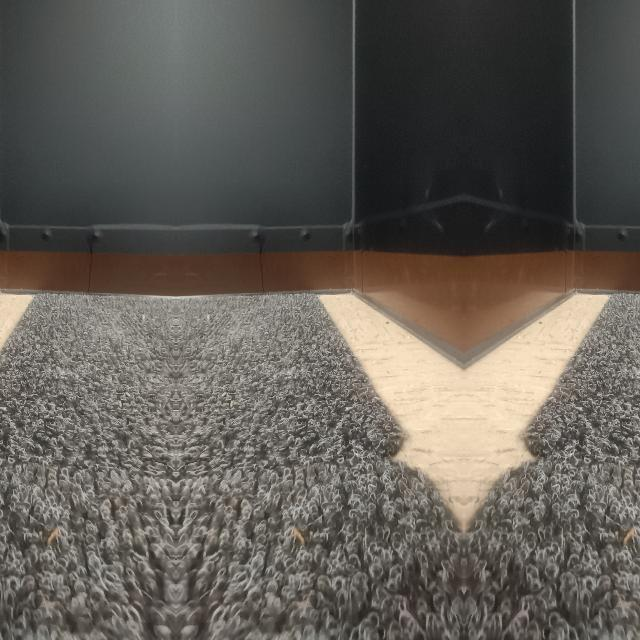obstacle: (178, 42, 356, 296), (0, 42, 172, 296), (570, 42, 640, 296)
